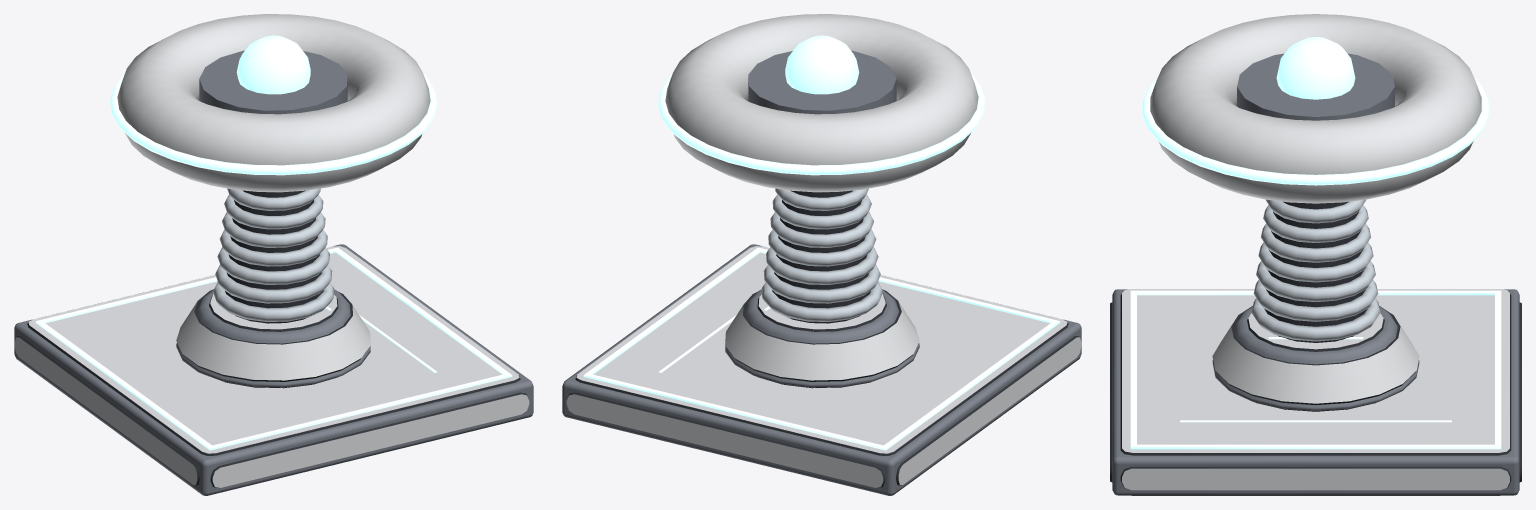
Rendered from R4X_AreaEMP.fbx.
3 renders of one model, left to right at view 1: azimuth 30°, elevation 25°; view 2: azimuth 150°, elevation 25°; view 3: azimuth 270°, elevation 25°, orthographic. The views are drawn at different scales.
Visible parts, largest first — view 1: R4X_AreaEMP_Body; view 2: R4X_AreaEMP_Body; view 3: R4X_AreaEMP_Body.
Boxes of the visible parts, x1,y1,x2,y2 form: R4X_AreaEMP_Body: (14, 14, 533, 495); R4X_AreaEMP_Body: (562, 14, 1081, 495); R4X_AreaEMP_Body: (1110, 14, 1521, 495).
Size of the model in its own units: 0.52 by 0.52 by 0.52.
